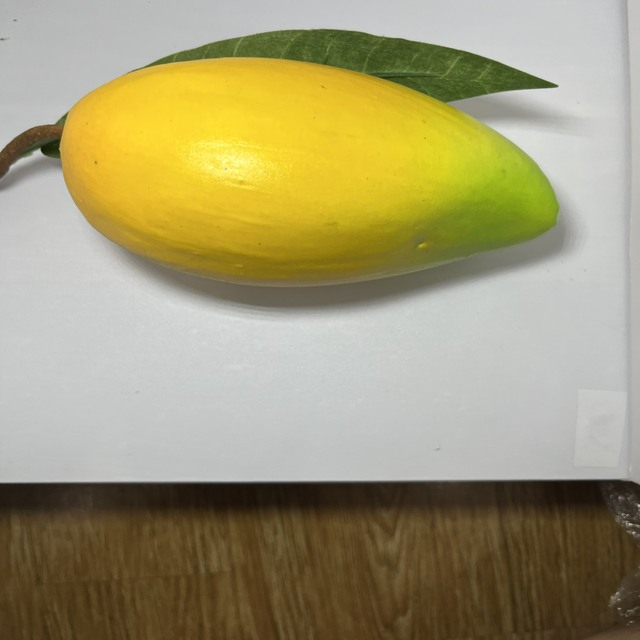Xoai: (49, 55, 564, 297)
